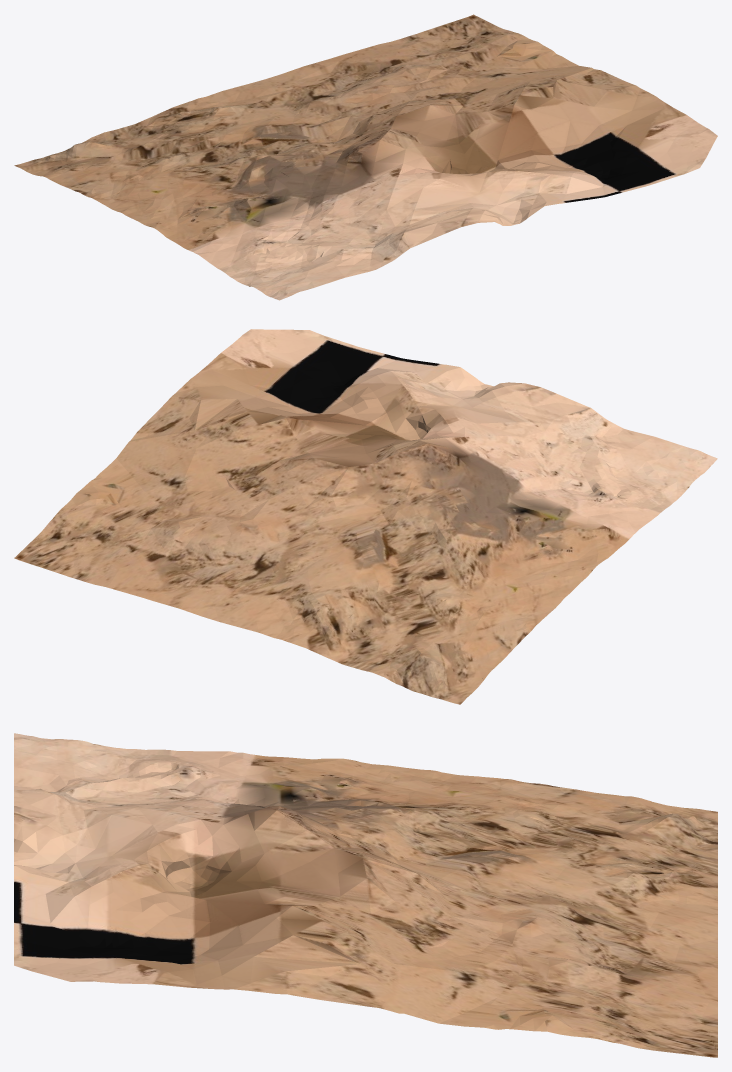
3 renders of one model, top to bottom at view 1: azimuth 30°, elevation 25°; view 2: azimuth 150°, elevation 25°; view 3: azimuth 270°, elevation 25°, orthographic. The views are drawn at different scales.
Size of the model in its own units: 8.36 by 1.71 by 8.36.
Materials: 2 (2 with a texture image).
